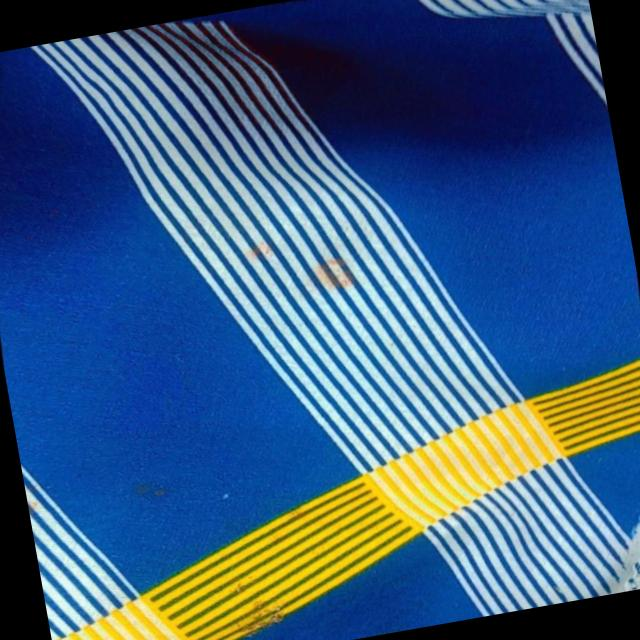stain: (116, 458, 202, 514), (296, 246, 376, 300), (233, 227, 288, 267)
